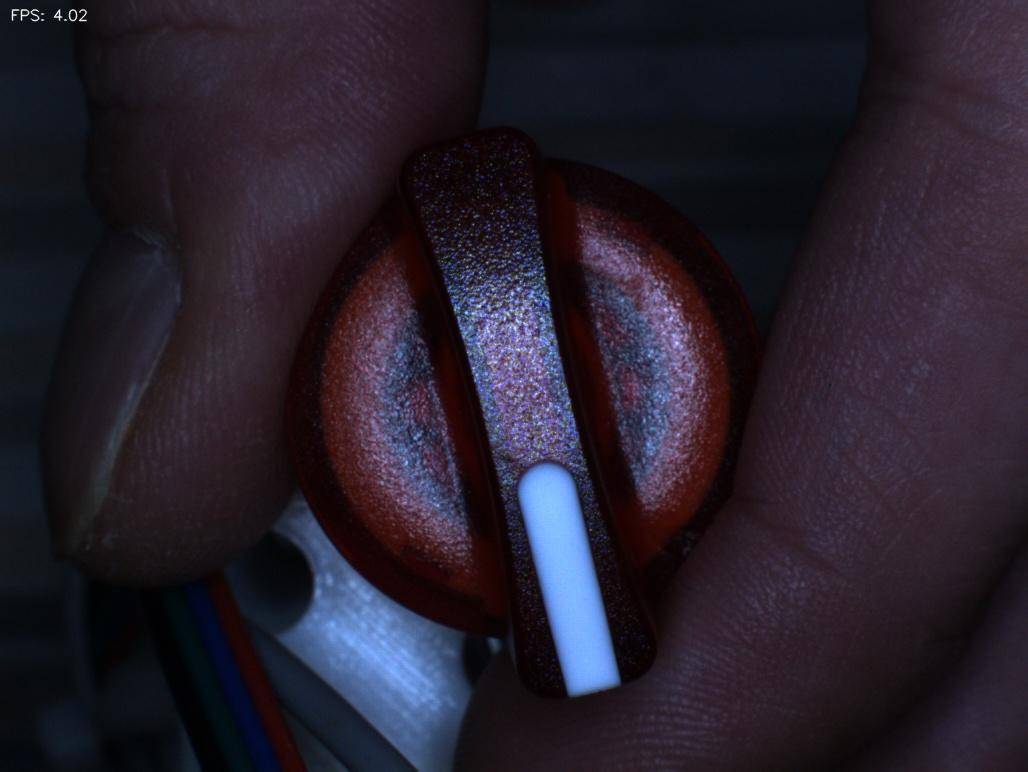Choc: (643, 502, 720, 584)
